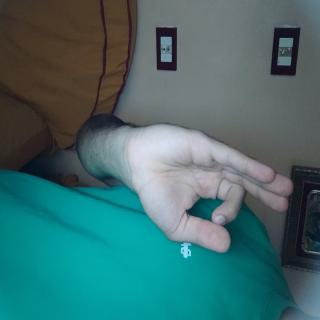Space: (80, 29, 194, 273)
